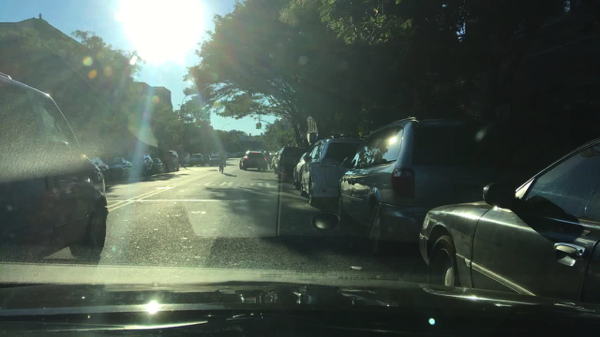car: (417, 138, 598, 299), (336, 118, 530, 258), (0, 72, 110, 264), (298, 137, 367, 205), (275, 147, 308, 182), (103, 157, 137, 181), (126, 153, 155, 179), (291, 151, 310, 188), (88, 156, 111, 184), (153, 150, 180, 173), (239, 151, 267, 172), (152, 156, 166, 175), (270, 148, 282, 169), (209, 153, 227, 166), (189, 153, 205, 167), (180, 154, 191, 165), (267, 152, 277, 163), (202, 153, 213, 162), (262, 150, 276, 154), (237, 152, 245, 157), (228, 153, 234, 159), (234, 153, 239, 159)
person: (217, 153, 226, 176), (263, 152, 272, 171)
traffic light: (194, 120, 198, 130), (258, 121, 262, 130), (198, 121, 202, 130), (255, 122, 258, 130)
